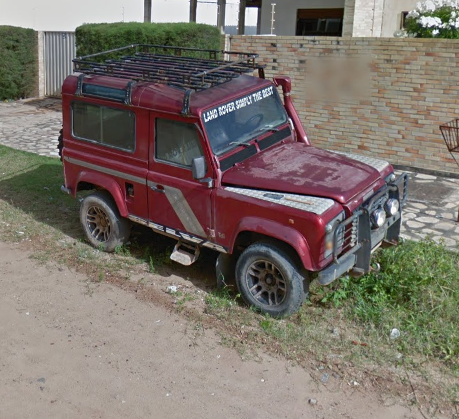car: (55, 42, 410, 320)
